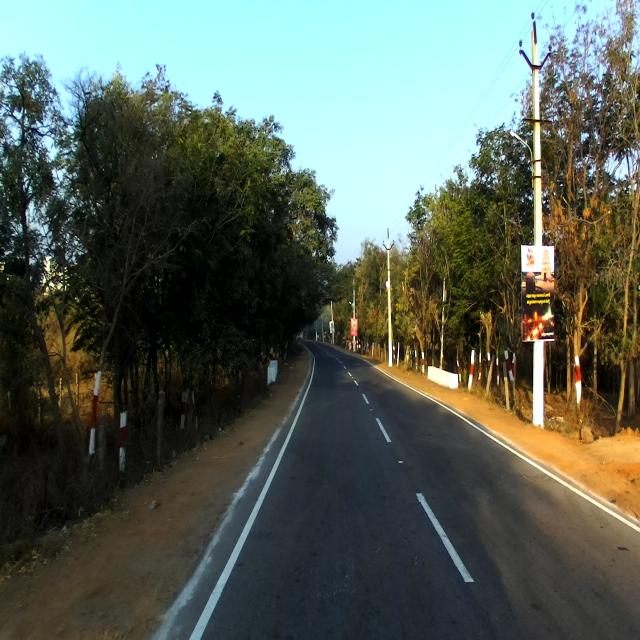electric pole ahead at: (513, 0, 562, 437)
tree ahead at: (85, 208, 142, 494)
